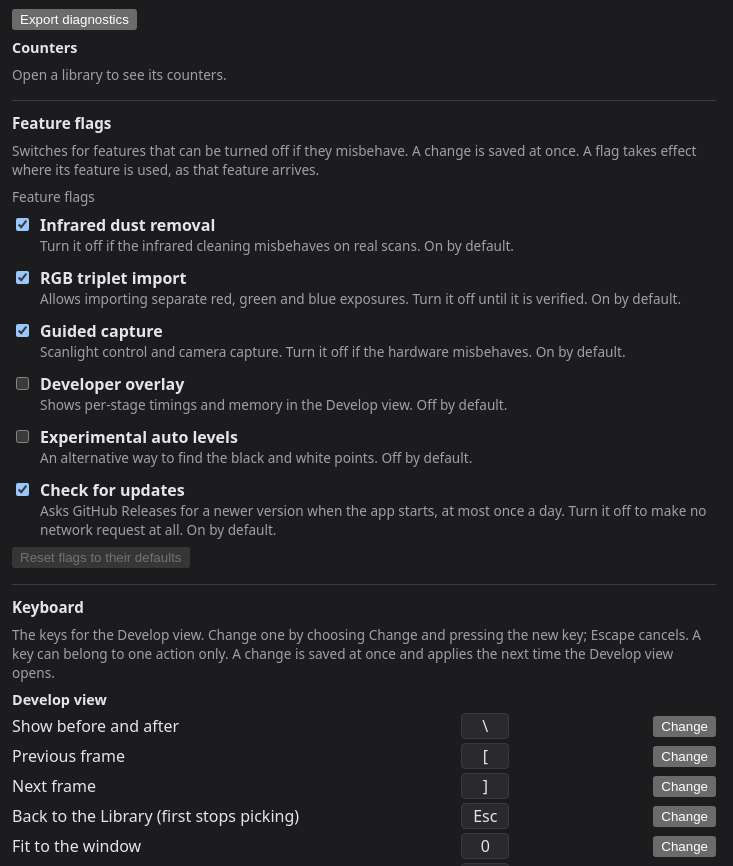
Scenario: SettingsView › the feature flags › switches a flag back and says why, when it could not be saved
(page scrolled)
Click the switch labelled "Experimental auto levels".
click(22, 436)  # box left=16, top=430, right=29, bottom=443
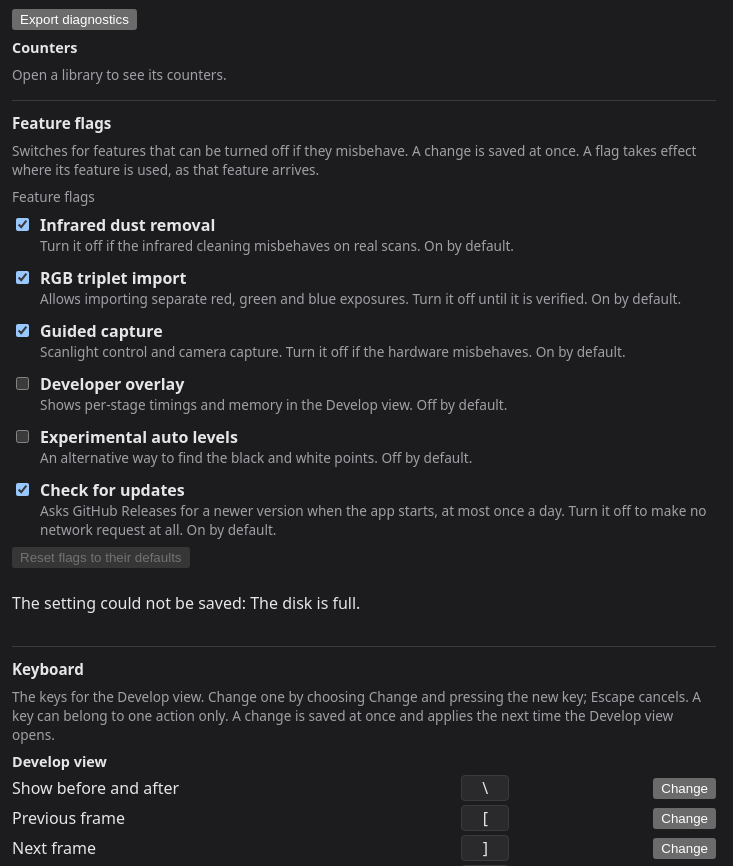
Now the message reads "The setting could not be saved: The disk is full.", box left=12, top=592, right=360, bottom=614
